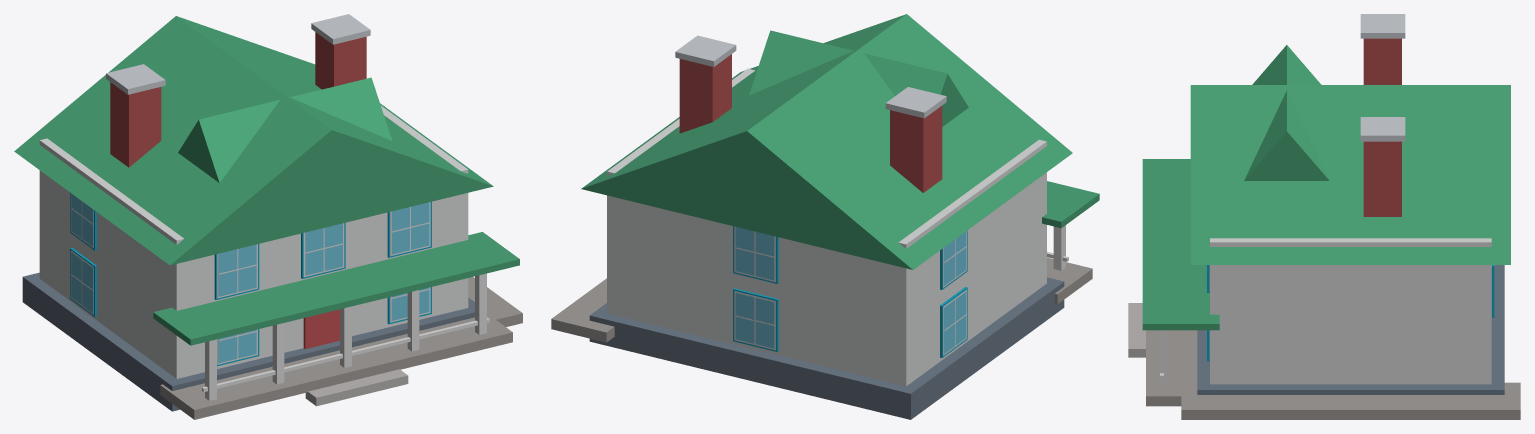
Rendered from hart-farmhouse.glb.
3 renders of one model, left to right at view 1: azimuth 30°, elevation 25°; view 2: azimuth 150°, elevation 25°; view 3: azimuth 270°, elevation 25°, orthographic. The views are drawn at different scales.
Visible parts, largest first — view 1: Root; view 2: Root; view 3: Root.
Boxes of the visible parts, box(x1,y1,x2,y2) form: Root: box(14, 14, 522, 419); Root: box(551, 14, 1099, 419); Root: box(1128, 14, 1520, 419).
Bounding box in the file's own units: 13 × 9.05 × 12.25.
